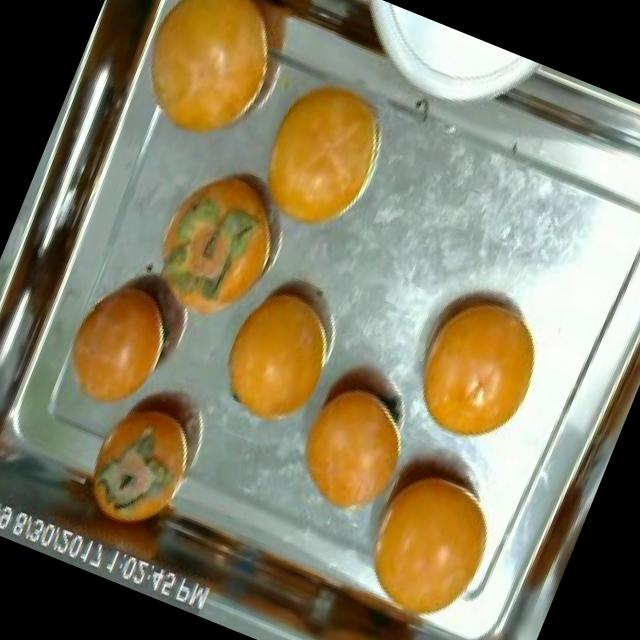Fruit: (226, 49, 420, 264), (125, 132, 310, 348), (383, 262, 566, 468), (336, 434, 520, 638), (114, 0, 312, 171), (195, 249, 360, 446), (271, 357, 434, 539), (40, 255, 191, 437)
